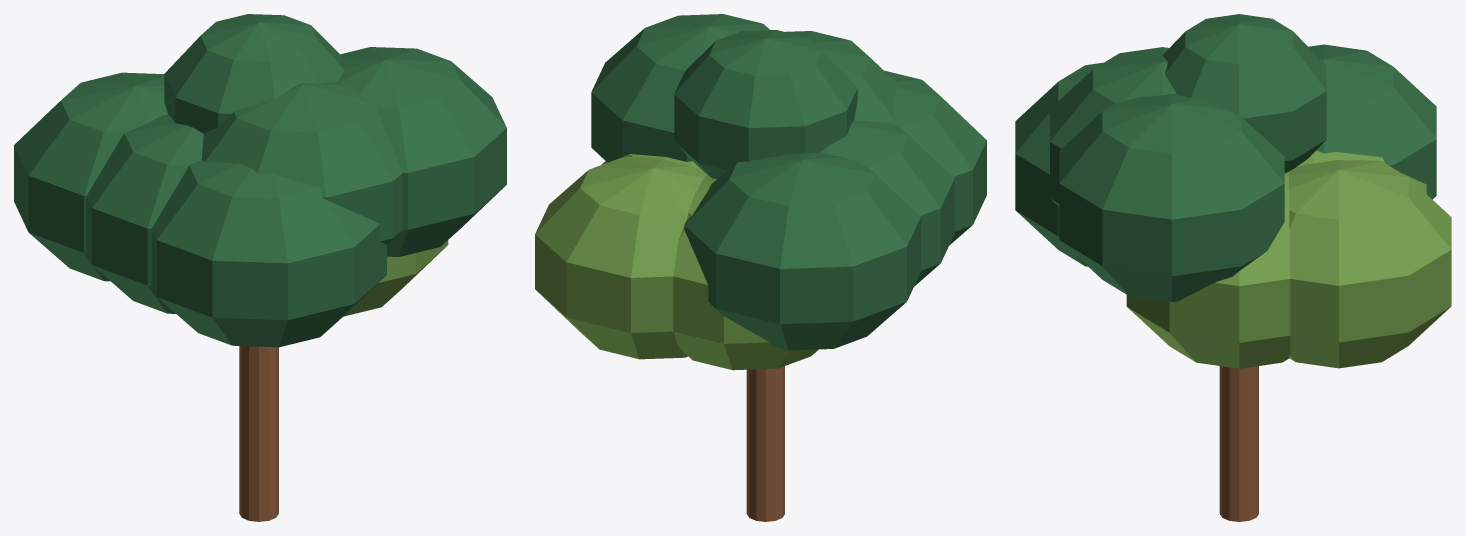
File: 033_mango_tree.glb
The picture shows the model from 3 angles, left to right: view 1: azimuth 30°, elevation 25°; view 2: azimuth 150°, elevation 25°; view 3: azimuth 270°, elevation 25°; orthographic projection. The views are drawn at different scales.
Visible parts, largest first — view 1: Mango tree; view 2: Mango tree; view 3: Mango tree.
Boxes of the visible parts, x1,y1,x2,y2 form: Mango tree: [14, 14, 506, 521]; Mango tree: [535, 14, 986, 521]; Mango tree: [1015, 14, 1451, 521].
Size of the model in its own units: 4.91 by 5.94 by 4.79.
